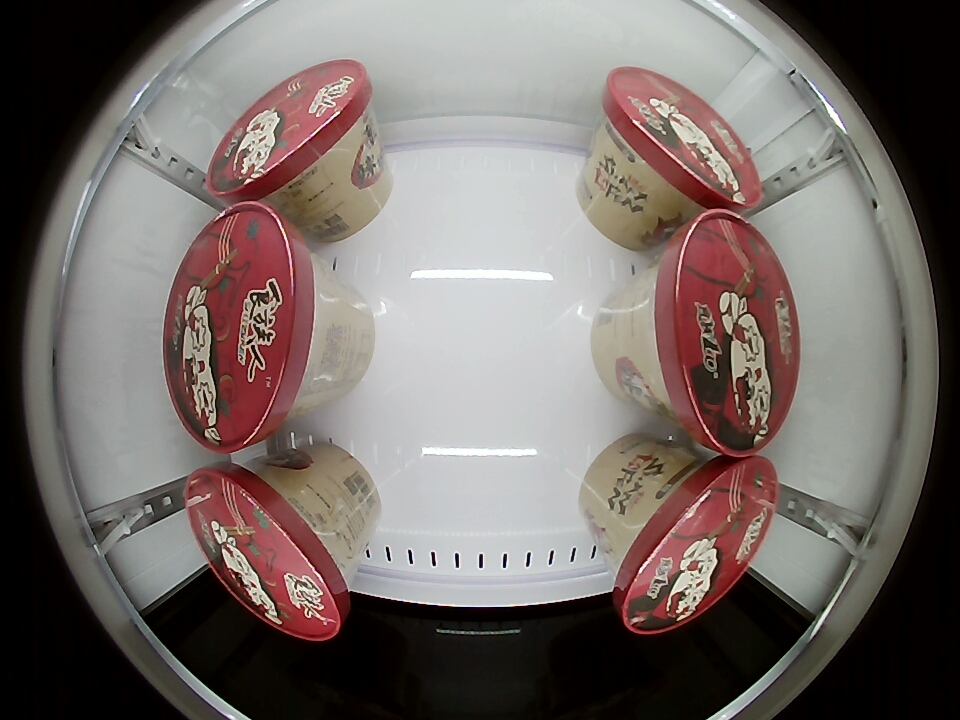suanlafen: (162, 203, 330, 452), (636, 208, 801, 457), (611, 456, 779, 634), (185, 465, 353, 641), (206, 60, 374, 205), (599, 67, 762, 215)
